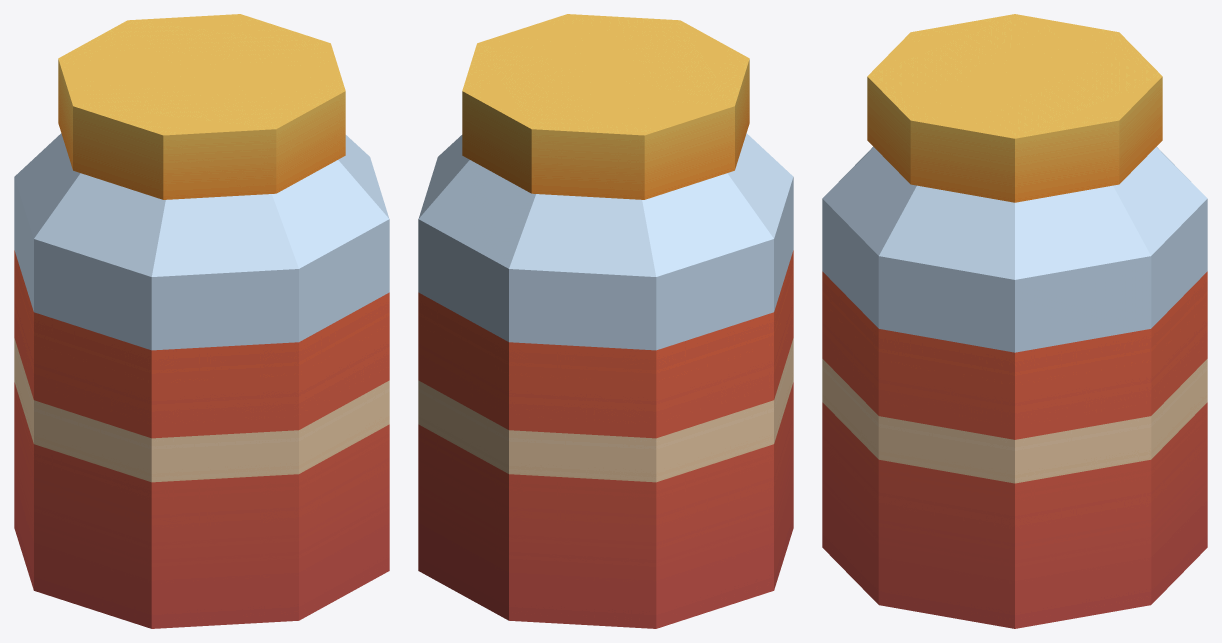
The model's file is food-pickle-jar.glb.
3 views of the same model, side by side, from view 1: azimuth 30°, elevation 25°; view 2: azimuth 150°, elevation 25°; view 3: azimuth 270°, elevation 25° (orthographic).
Parts seen in each view (by area): view 1: foodPickleJar; view 2: foodPickleJar; view 3: foodPickleJar.
Boxes of the visible parts, <box> form: foodPickleJar: <box>14,14,389,628</box>; foodPickleJar: <box>418,14,793,628</box>; foodPickleJar: <box>822,14,1207,628</box>.
Size of the model in its own units: 0.12 by 0.162 by 0.12.
1 material, 1 textured.
